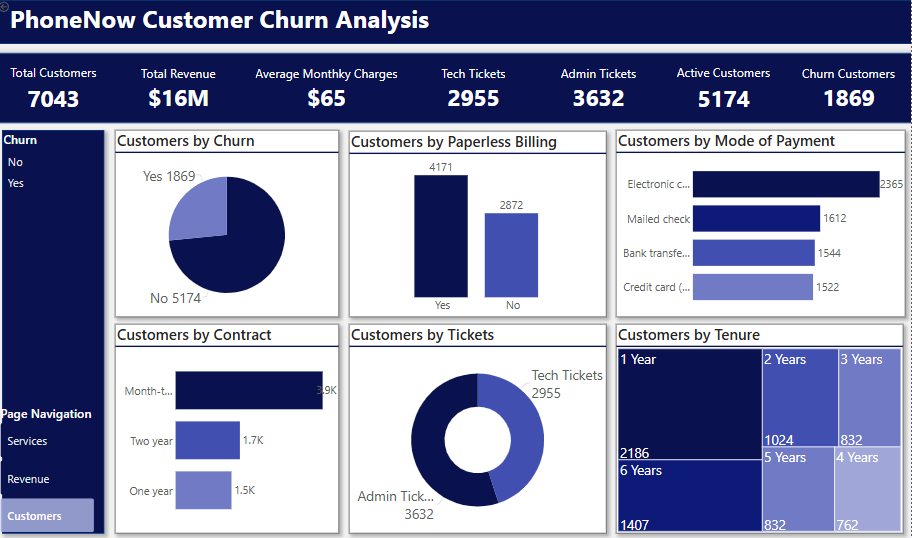

This screenshot's page, from the dashboard's own definition file:
{"tool":"powerbi","page":{"name":"Customers","canvas":[2700,1600],"ordinal":2},"visuals":[{"type":"shape","box":[0,0,2701.1,129.9],"z":0},{"type":"textbox","box":[32.5,0,1290,126.9],"z":1000},{"type":"shape","box":[0,156.5,2701.1,206.6],"z":2000},{"type":"cardVisual","fields":{"Data":["All Measures.Total Customers"]},"box":[0,156.5,333.6,206.6],"z":3000},{"type":"cardVisual","fields":{"Data":["All Measures.Churn Customers"]},"box":[2346.9,156.5,333.6,206.6],"z":4000},{"type":"cardVisual","fields":{"Data":["All Measures.Non-Churn Customers"]},"box":[1978.4,156.5,333.6,206.6],"z":5000},{"type":"cardVisual","fields":{"Data":["All Measures.Total Revenue"]},"box":[368.5,156.5,333.6,206.6],"z":6000},{"type":"cardVisual","fields":{"Data":["All Measures.Total Tech Tickets"]},"box":[1241.3,156.5,333.6,206.6],"z":7000},{"type":"cardVisual","fields":{"Data":["All Measures.Average Monthky Charges"]},"box":[737,156.5,469.4,206.6],"z":8000},{"type":"cardVisual","fields":{"Data":["All Measures.Total Admin Tickets"]},"box":[1609.8,156.5,333.6,206.6],"z":9000},{"type":"barChart","title":"Customers by Contract","fields":{"Category":["01 Churn-Dataset.Contract"],"Y":["All Measures.Total Customers"]},"box":[346.9,956.3,660.7,618.4],"z":10000},{"type":"columnChart","title":"Customers by Paperless Billing","fields":{"Category":["01 Churn-Dataset.Paperless Billing"],"Y":["All Measures.Total Customers"]},"box":[1037.8,386.1,760.2,549.1],"z":11000},{"type":"barChart","title":"Customers by Mode of Payment","fields":{"Category":["01 Churn-Dataset.Payment Method"],"Y":["All Measures.Total Customers"]},"box":[1828.2,383.1,853.7,552.1],"z":12000},{"type":"treemap","title":"Customers by Tenure","fields":{"Group":["01 Churn-Dataset.Tenure Group"],"Values":["All Measures.Total Customers"]},"box":[1828.2,956.3,847.7,618.4],"z":13000},{"type":"pieChart","title":"Customers by Churn","fields":{"Category":["01 Churn-Dataset.Churn"],"Y":["All Measures.Total Customers"]},"box":[346.9,383.1,660.7,552.1],"z":14000},{"type":"actionButton","box":[0,0,100,40],"z":15000},{"type":"donutChart","title":"Customers by Tickets","fields":{"Y":["All Measures.Total Tech Tickets","All Measures.Total Admin Tickets"]},"box":[1037.8,956.3,760.2,618.4],"z":16000},{"type":"shape","box":[15.1,383.1,301.7,1191.6],"z":17000},{"type":"pageNavigator","title":"Page Navigation","box":[0,1195.6,286.3,377.9],"z":19000},{"type":"advancedSlicerVisual","fields":{"Values":["01 Churn-Dataset.Churn"]},"box":[9.1,386.1,292.6,181],"z":20000}]}

Visuals, with their boxes in screenshot pixels (x1, y1, x2, y2), scaled from the page's 2700x1600 canvas onto the 912x538 screenshot:
shape: left=0, top=0, right=911, bottom=44
textbox: left=11, top=0, right=447, bottom=43
shape: left=0, top=53, right=911, bottom=122
cardVisual - All Measures.Total Customers: left=0, top=53, right=113, bottom=122
cardVisual - All Measures.Churn Customers: left=793, top=53, right=905, bottom=122
cardVisual - All Measures.Non-Churn Customers: left=668, top=53, right=781, bottom=122
cardVisual - All Measures.Total Revenue: left=124, top=53, right=237, bottom=122
cardVisual - All Measures.Total Tech Tickets: left=419, top=53, right=532, bottom=122
cardVisual - All Measures.Average Monthky Charges: left=249, top=53, right=407, bottom=122
cardVisual - All Measures.Total Admin Tickets: left=544, top=53, right=656, bottom=122
"Customers by Contract" barChart: left=117, top=322, right=340, bottom=529
"Customers by Paperless Billing" columnChart: left=351, top=130, right=607, bottom=314
"Customers by Mode of Payment" barChart: left=618, top=129, right=906, bottom=314
"Customers by Tenure" treemap: left=618, top=322, right=904, bottom=529
"Customers by Churn" pieChart: left=117, top=129, right=340, bottom=314
actionButton: left=0, top=0, right=34, bottom=13
"Customers by Tickets" donutChart: left=351, top=322, right=607, bottom=529
shape: left=5, top=129, right=107, bottom=529
"Page Navigation" pageNavigator: left=0, top=402, right=97, bottom=529
advancedSlicerVisual - 01 Churn-Dataset.Churn: left=3, top=130, right=102, bottom=191
